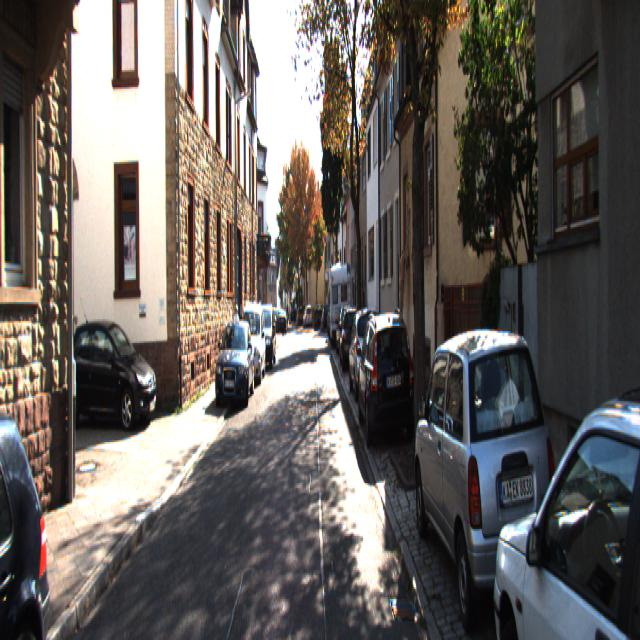Car: (409, 317, 568, 638), (486, 342, 639, 638), (0, 372, 69, 638), (59, 313, 157, 431), (355, 304, 417, 451), (214, 312, 255, 406), (348, 300, 384, 400), (235, 297, 267, 382), (328, 255, 352, 342), (337, 300, 362, 369), (253, 305, 277, 373), (276, 309, 288, 334)
